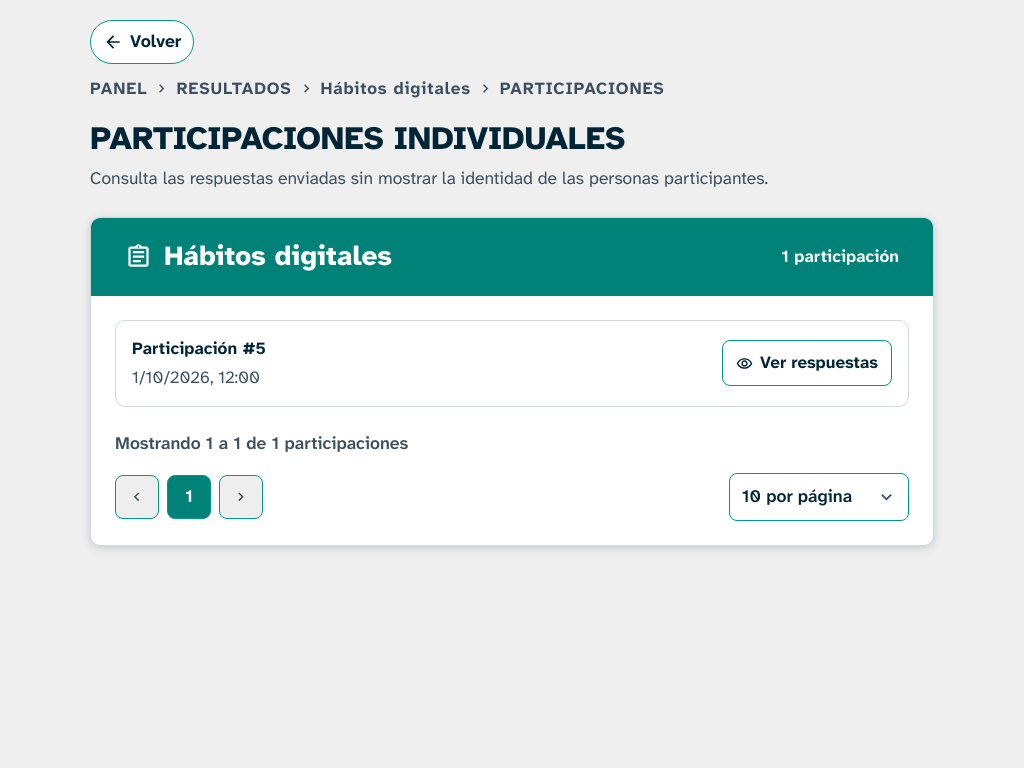
Test: SurveyParticipationsPage › conserva la lista si falla la carga de un detalle
Click the button "Ver respuestas". click: (807, 363)
box: [722, 340, 892, 386]
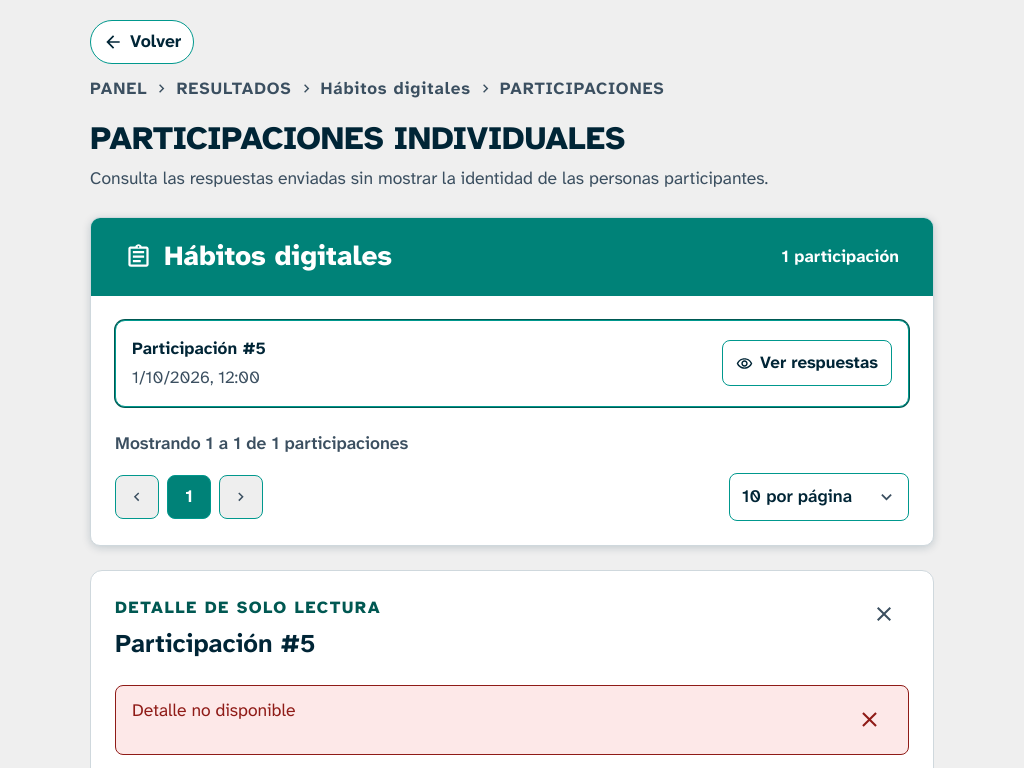
Expected: the text "Participación #5" is shown 2 times, [132, 336, 266, 361]; [115, 626, 316, 660]
Now the text "Detalle no disponible" is shown, box [132, 699, 296, 722]
